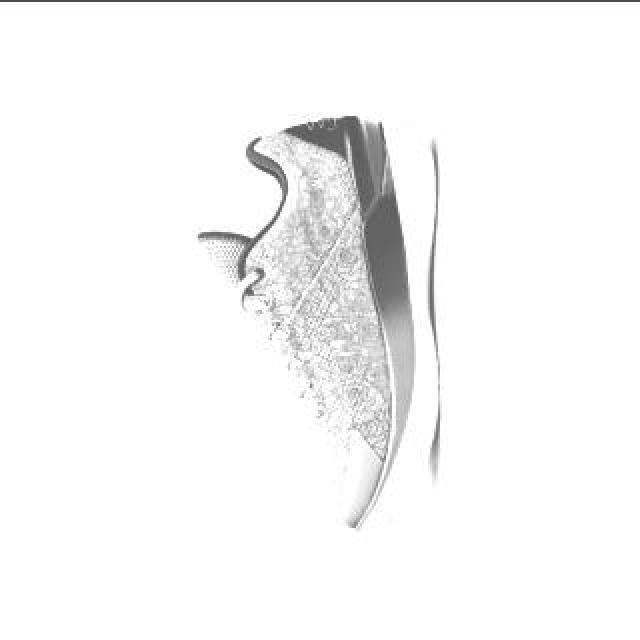shoe: (190, 102, 443, 538), (196, 111, 440, 529)
